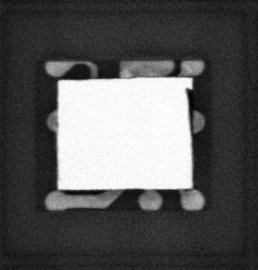DIE_BROKEN: (184, 85, 194, 134)
